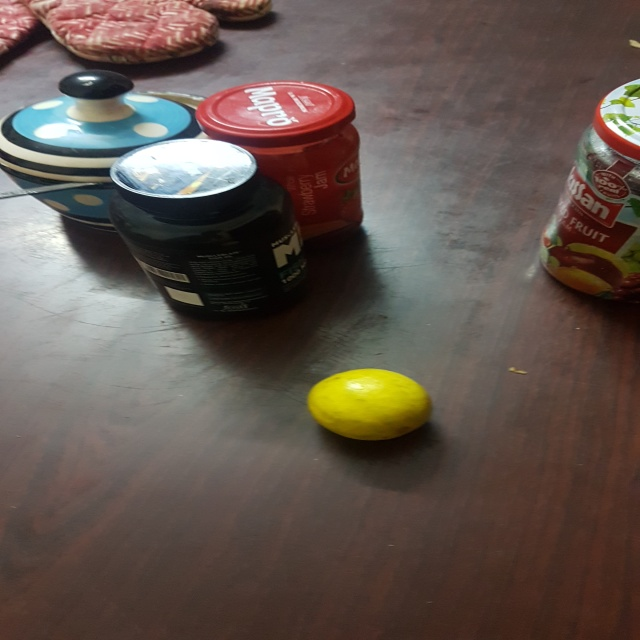lemon: (303, 361, 446, 452)
